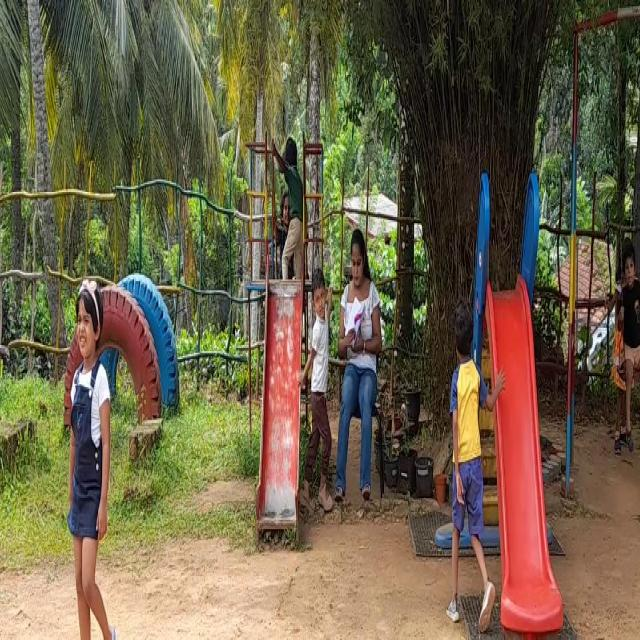adult: (332, 208, 390, 522)
child: (60, 273, 126, 640), (440, 290, 496, 634), (302, 267, 333, 513), (274, 124, 306, 274), (616, 242, 640, 437)
